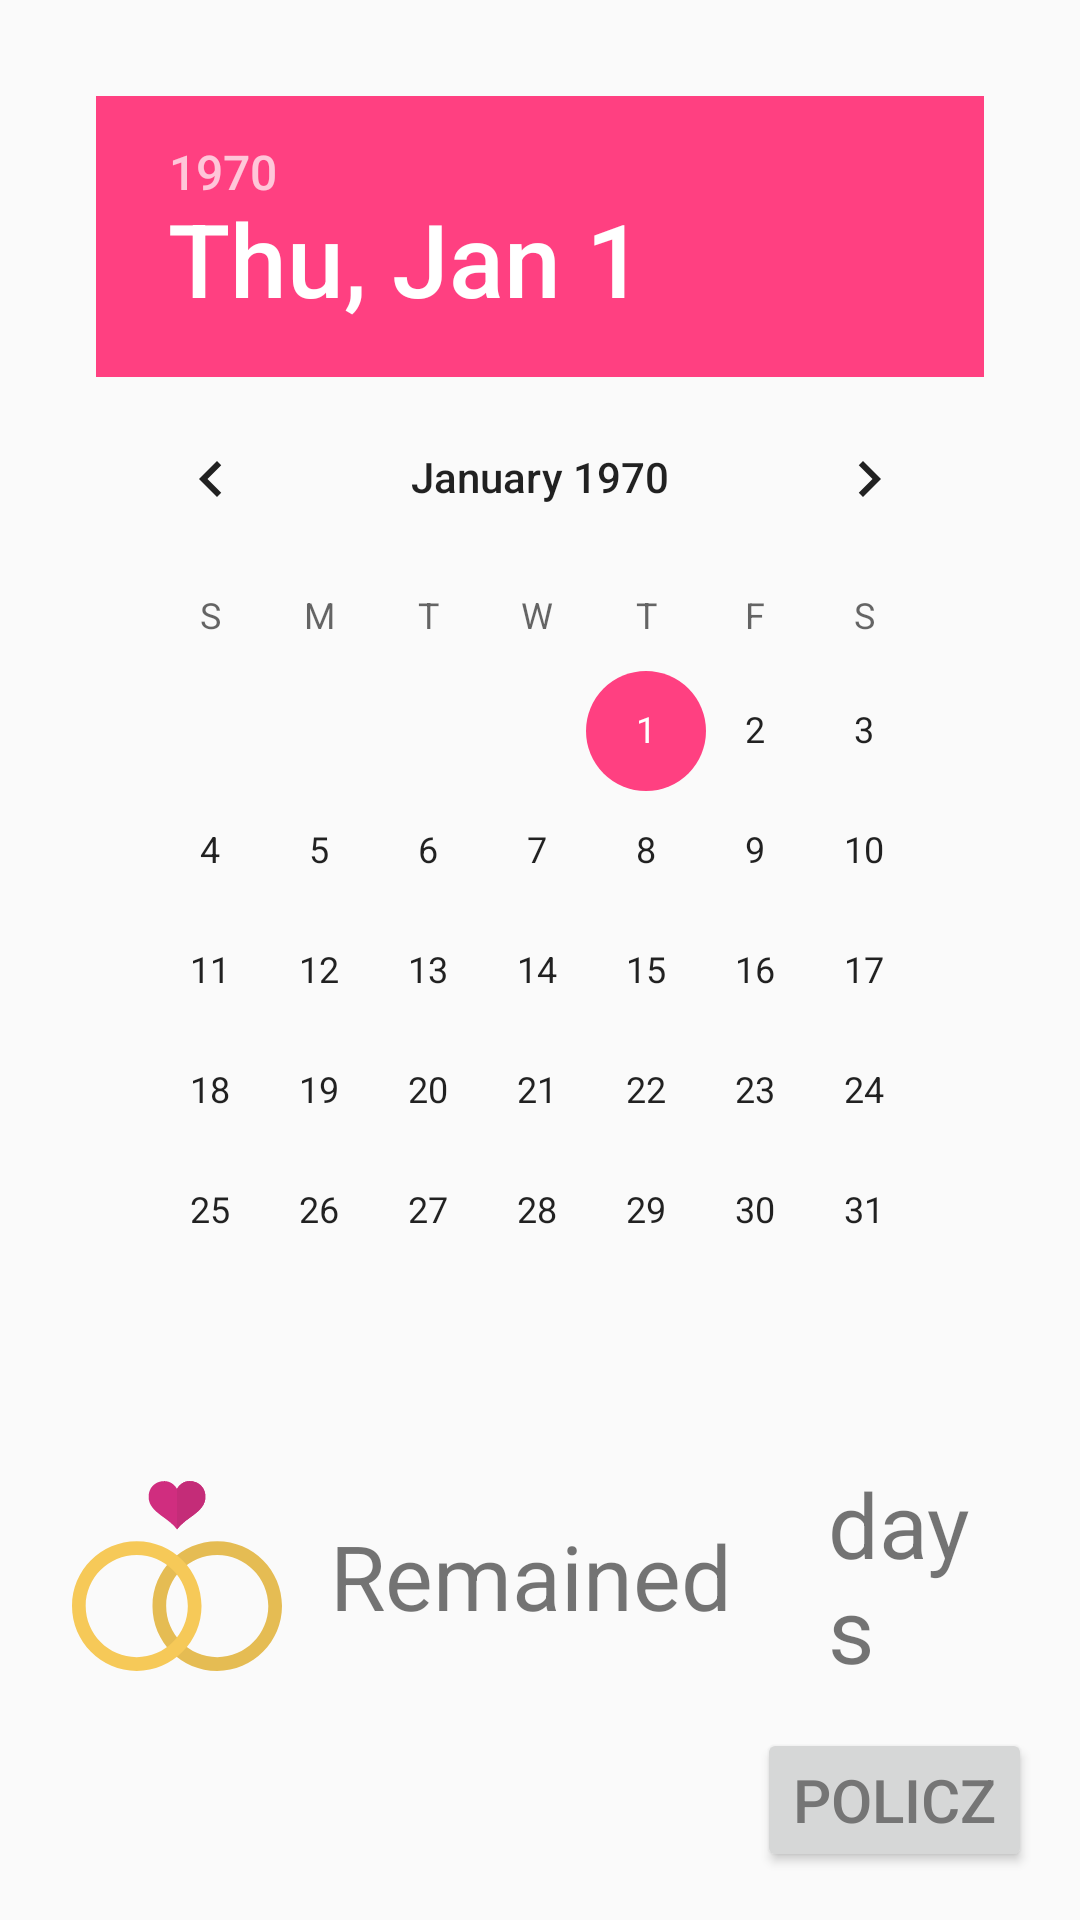

Screen size 1080px x 1920px. Icon name, then its center in pixels as [x,y]:
wedding: [177,1576]
